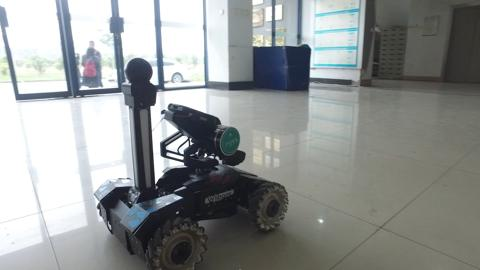chariot: (83, 52, 297, 270)
